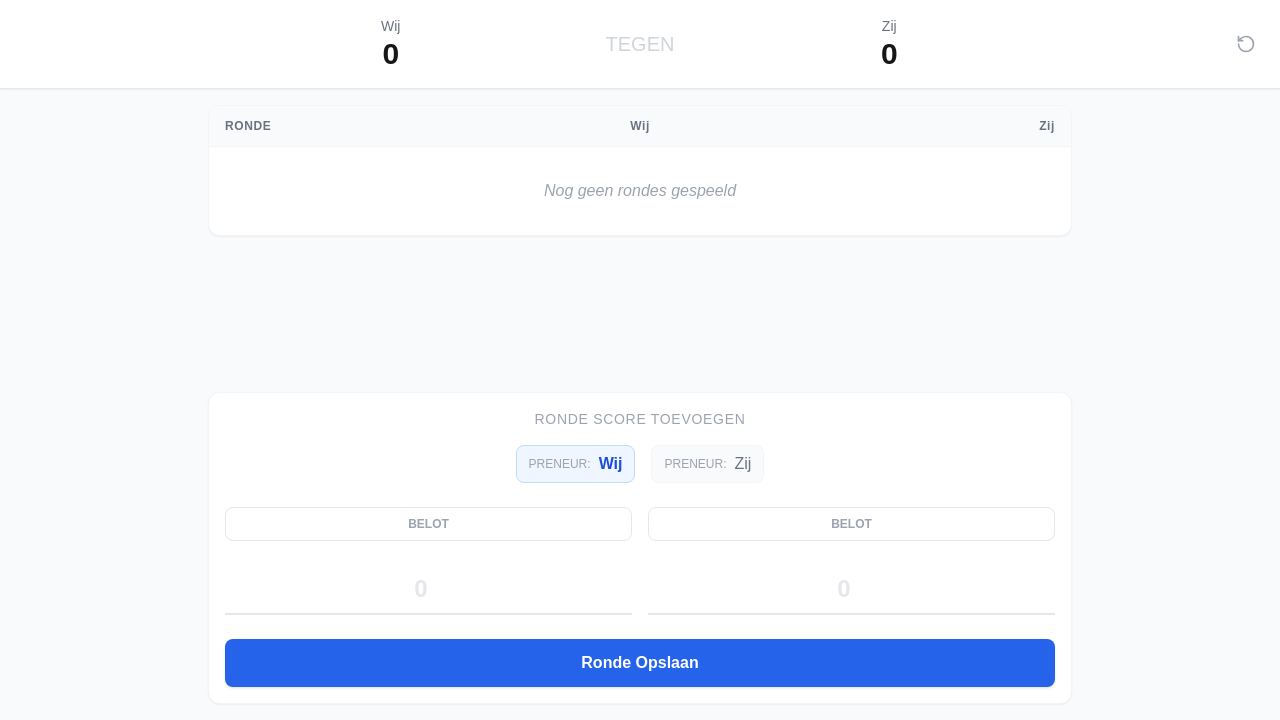
Test: Home Page Integration › completes a round with Belot and shows updated scores and icon
Type "100" into the 1st number field with placeholder "0".
click(428, 590); type("100")  # box [225,565,632,615]
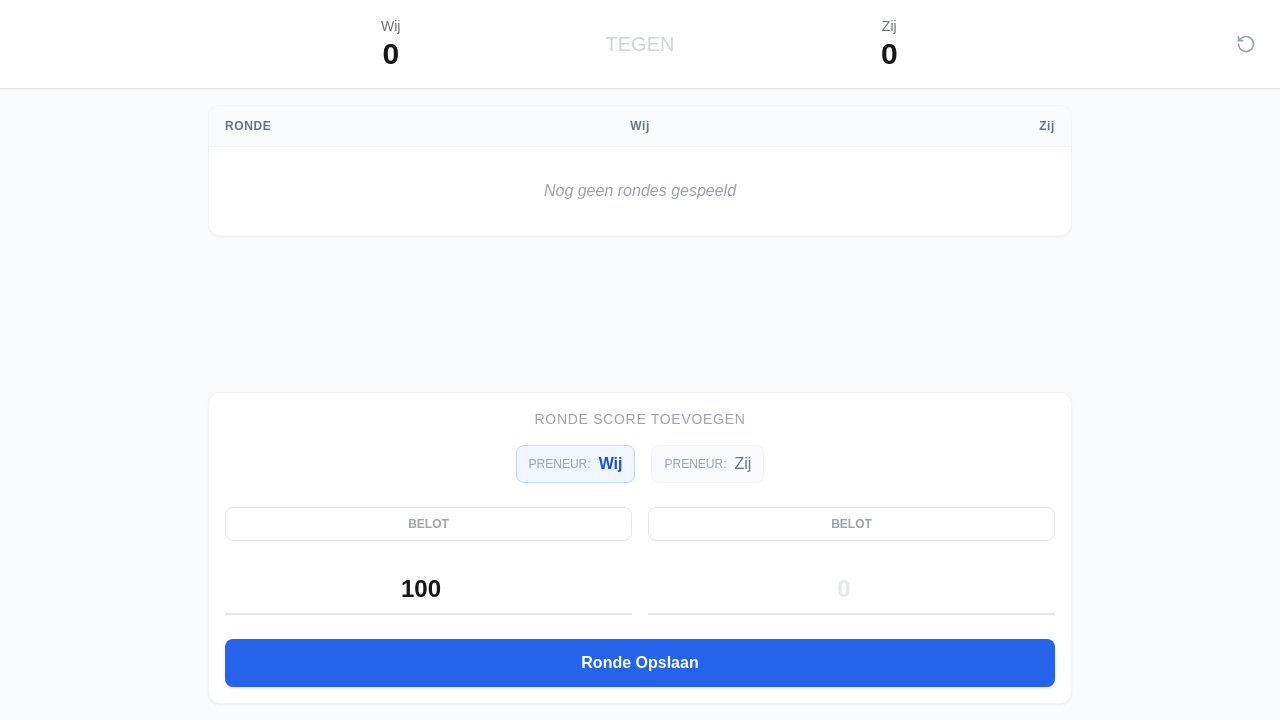
Type "62" into the number field with placeholder "0".
click(852, 590); type("62")  # box [648,565,1055,615]
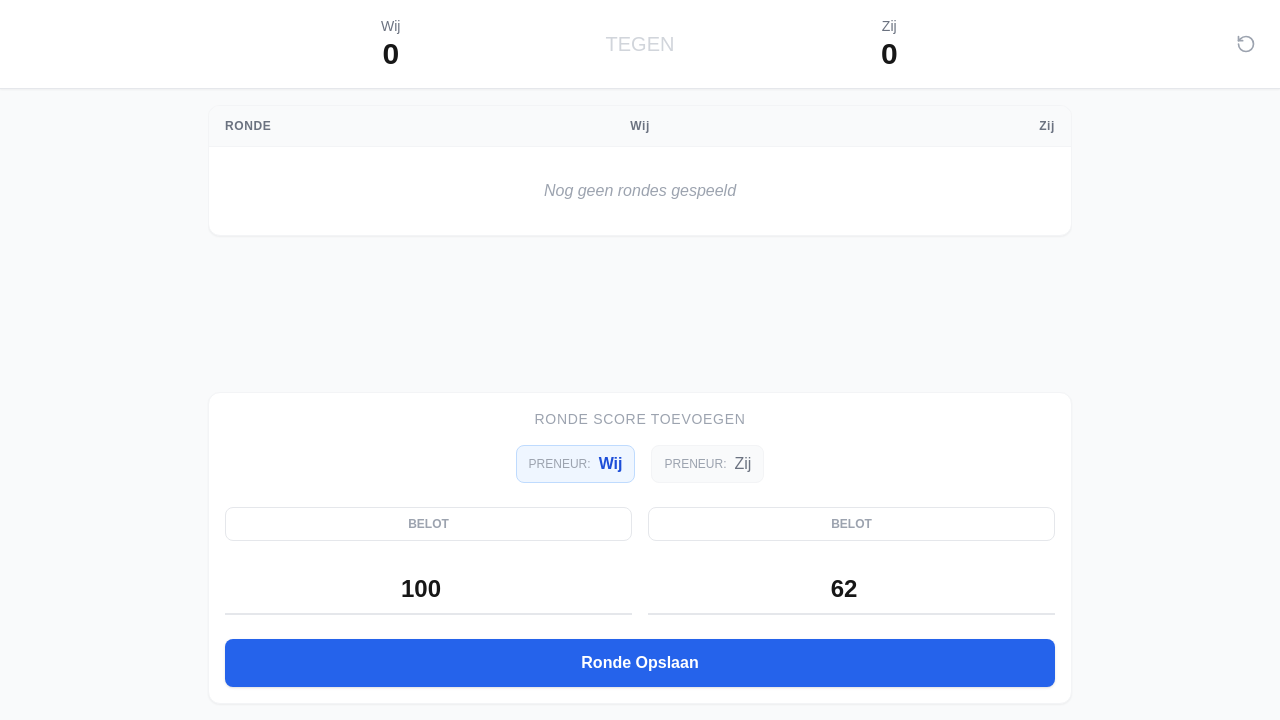
Select Belot for Team 1
Click the 1st button "Belot".
click(428, 524)  # box [225,507,632,541]
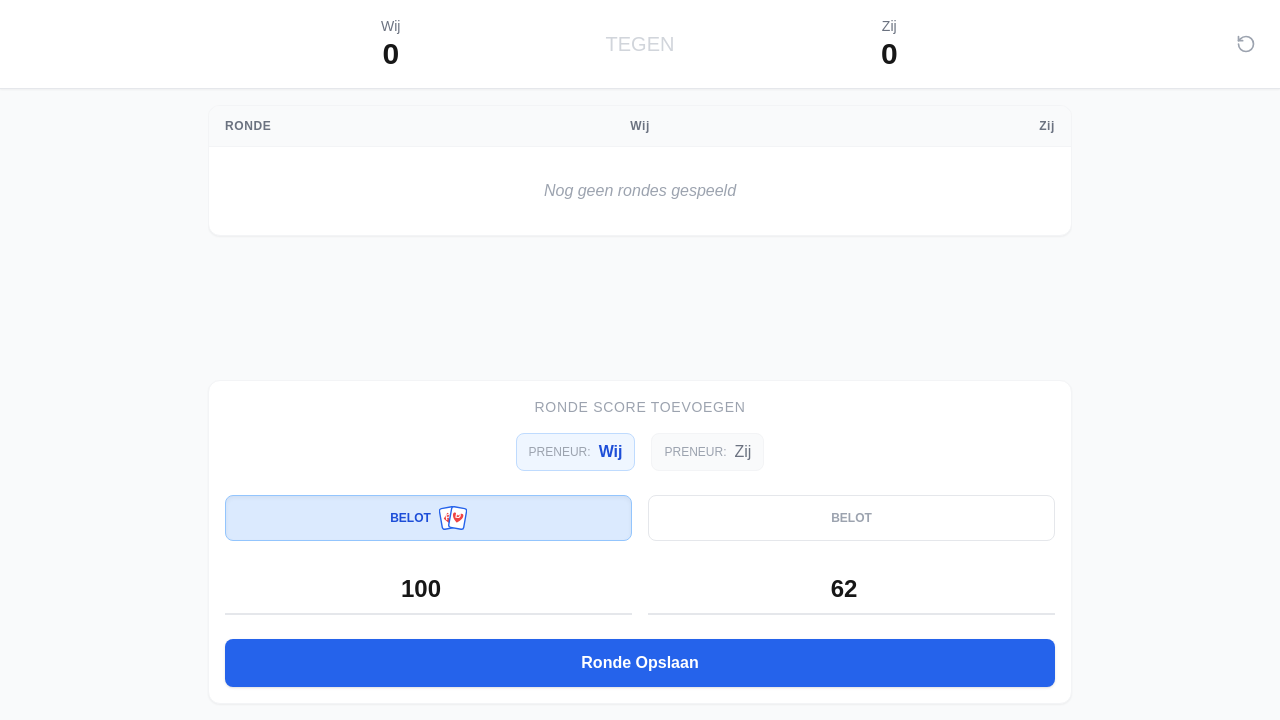
3. Submit
Click the button "Ronde Opslaan".
click(640, 663)  # box [225,639,1055,687]
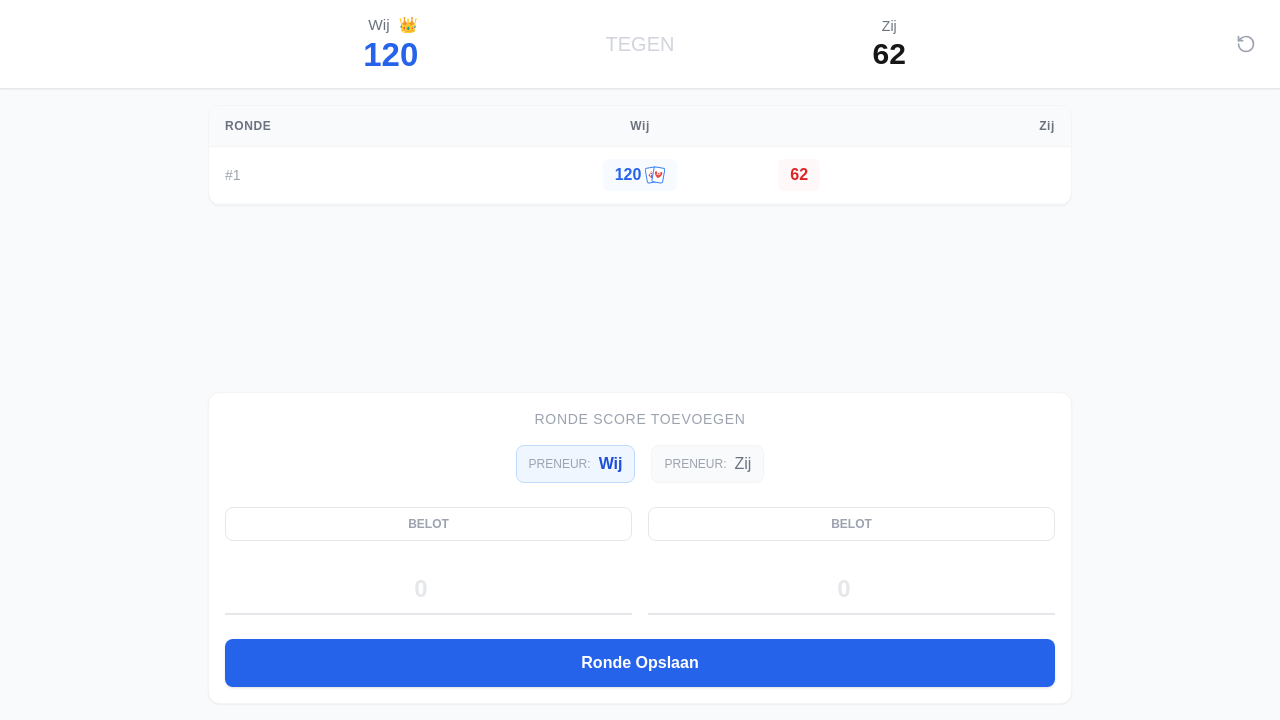
Result: the icon "R D" is shown at [645,165,665,185]
Result: the text "120" is shown at [363,35,418,75]
Result: the text "62" in the row of "TEGEN" is shown at [872,37,906,70]
